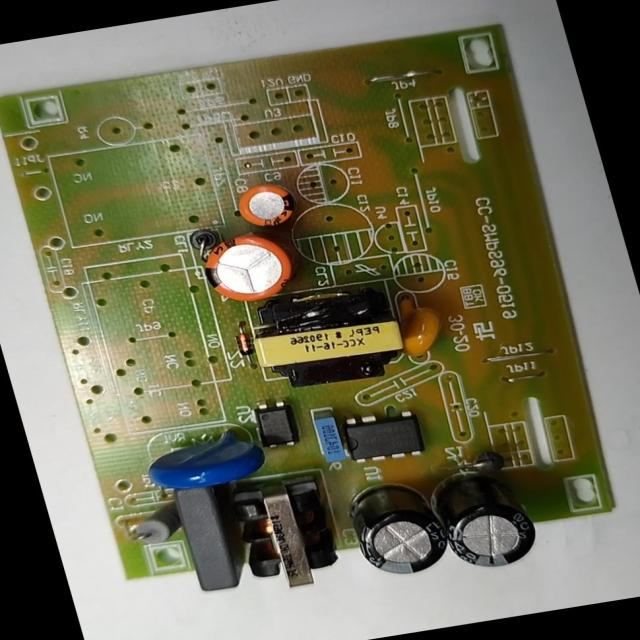Cap1: (194, 226, 297, 307)
Cap2: (230, 176, 304, 233)
Cap3: (340, 479, 456, 581)
Cap4: (427, 460, 544, 574)
MOSFET: (335, 402, 428, 468)
Mov: (134, 418, 268, 494)
Resistor: (122, 497, 186, 549)
Transformer: (239, 278, 416, 394), (225, 478, 345, 596)
